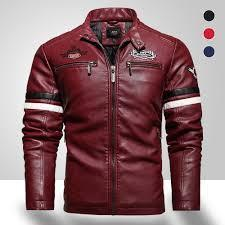jacket: (21, 6, 204, 212)
